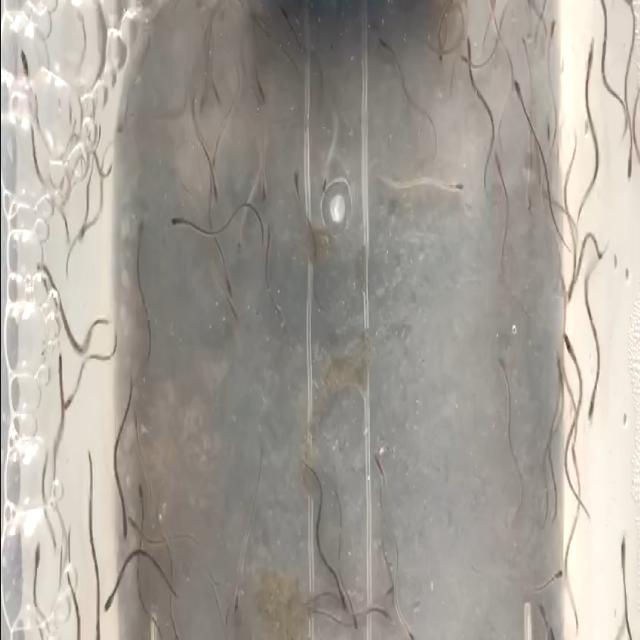active_glass_eel: (530, 598, 556, 640), (564, 429, 584, 483), (562, 259, 580, 317), (218, 282, 240, 326), (521, 160, 535, 222), (492, 353, 511, 398), (368, 601, 396, 631), (614, 527, 628, 584), (549, 348, 567, 392), (510, 78, 525, 128), (462, 35, 477, 85), (439, 172, 465, 200), (542, 566, 564, 598), (15, 41, 30, 87), (582, 38, 596, 87), (586, 379, 600, 427), (542, 111, 558, 152), (316, 160, 332, 201), (560, 328, 574, 372), (546, 10, 560, 54), (376, 30, 396, 60), (488, 146, 504, 183), (253, 77, 270, 111), (134, 214, 146, 262), (32, 536, 44, 584), (256, 163, 270, 204), (206, 176, 222, 210), (130, 402, 142, 442), (134, 476, 148, 510), (74, 218, 92, 244), (622, 144, 632, 190), (460, 42, 474, 74), (335, 586, 349, 618), (61, 384, 77, 412), (372, 450, 384, 487), (221, 590, 231, 634), (230, 582, 242, 618), (379, 578, 396, 603), (36, 258, 51, 286), (196, 78, 206, 119), (232, 220, 242, 260), (102, 584, 116, 612), (348, 604, 361, 632), (263, 216, 275, 246), (168, 204, 183, 228), (433, 29, 443, 64), (222, 266, 232, 300), (288, 167, 300, 195), (211, 83, 223, 111), (124, 514, 140, 534), (55, 349, 65, 380), (401, 623, 418, 640), (172, 623, 182, 640)
